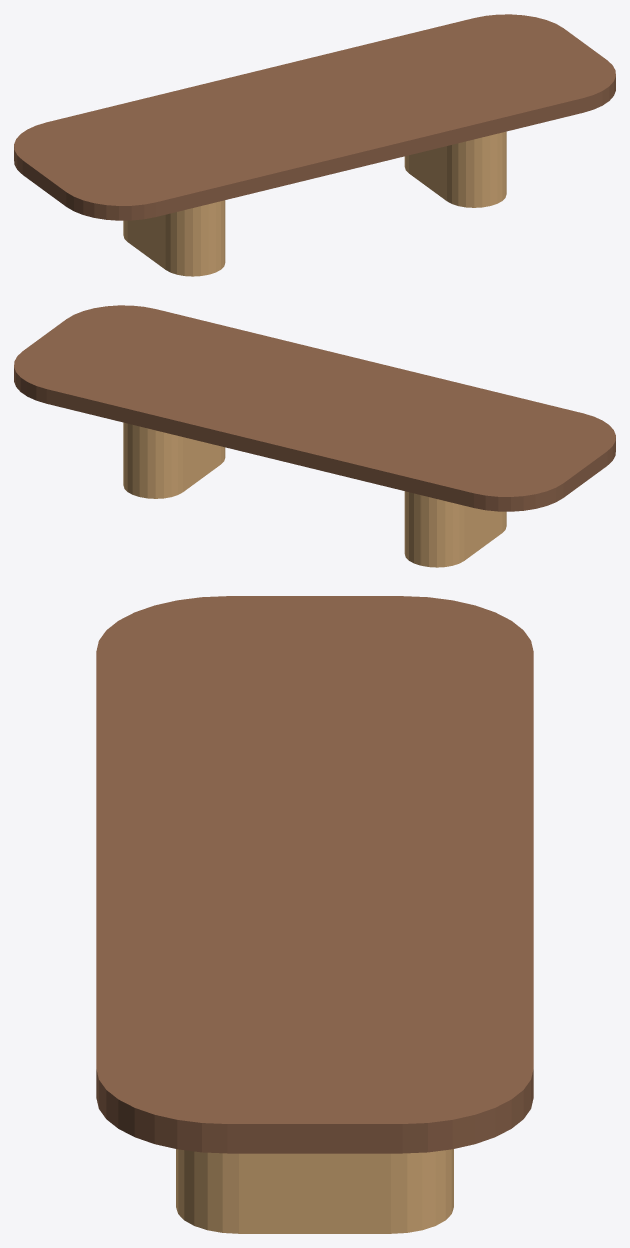
Rendered from kit_board_table_10_v1.glb.
The picture shows the model from 3 angles, top to bottom: view 1: azimuth 30°, elevation 25°; view 2: azimuth 150°, elevation 25°; view 3: azimuth 270°, elevation 25°; orthographic projection. The views are drawn at different scales.
Parts seen in each view (by area): view 1: body; view 2: body; view 3: body.
Boxes of the visible parts, left/top/right/bottom form: body: left=14, top=14, right=615, bottom=276; body: left=14, top=305, right=615, bottom=567; body: left=96, top=596, right=533, bottom=1233.
Bounding box in the file's own units: 4 × 0.74 × 1.4.
